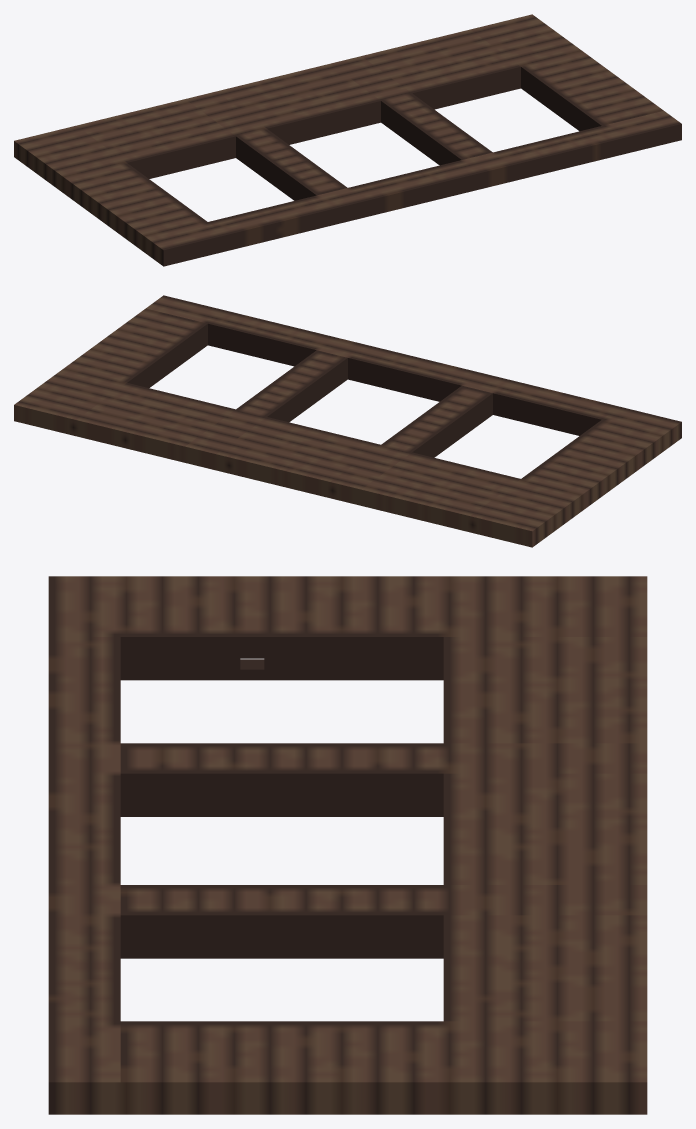
The model's file is Wall_Cannon_00.fbx.
The picture shows the model from 3 angles, top to bottom: view 1: azimuth 30°, elevation 25°; view 2: azimuth 150°, elevation 25°; view 3: azimuth 270°, elevation 25°; orthographic projection. The views are drawn at different scales.
Parts seen in each view (by area): view 1: Wall_Cannon_00; view 2: Wall_Cannon_00; view 3: Wall_Cannon_00.
Boxes of the visible parts, left/top/right/bottom form: Wall_Cannon_00: left=14, top=14, right=681, bottom=266; Wall_Cannon_00: left=14, top=295, right=681, bottom=547; Wall_Cannon_00: left=48, top=576, right=647, bottom=1114.
Size of the model in its own units: 500 by 20 by 250.
